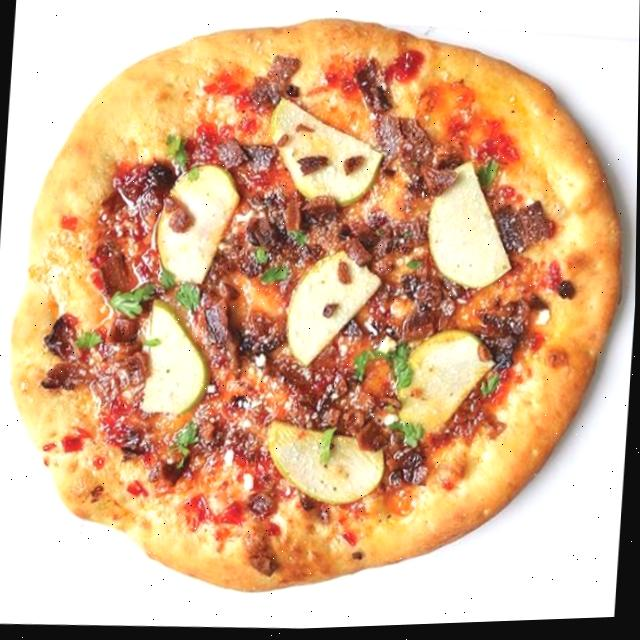pizza: (0, 0, 640, 621)
